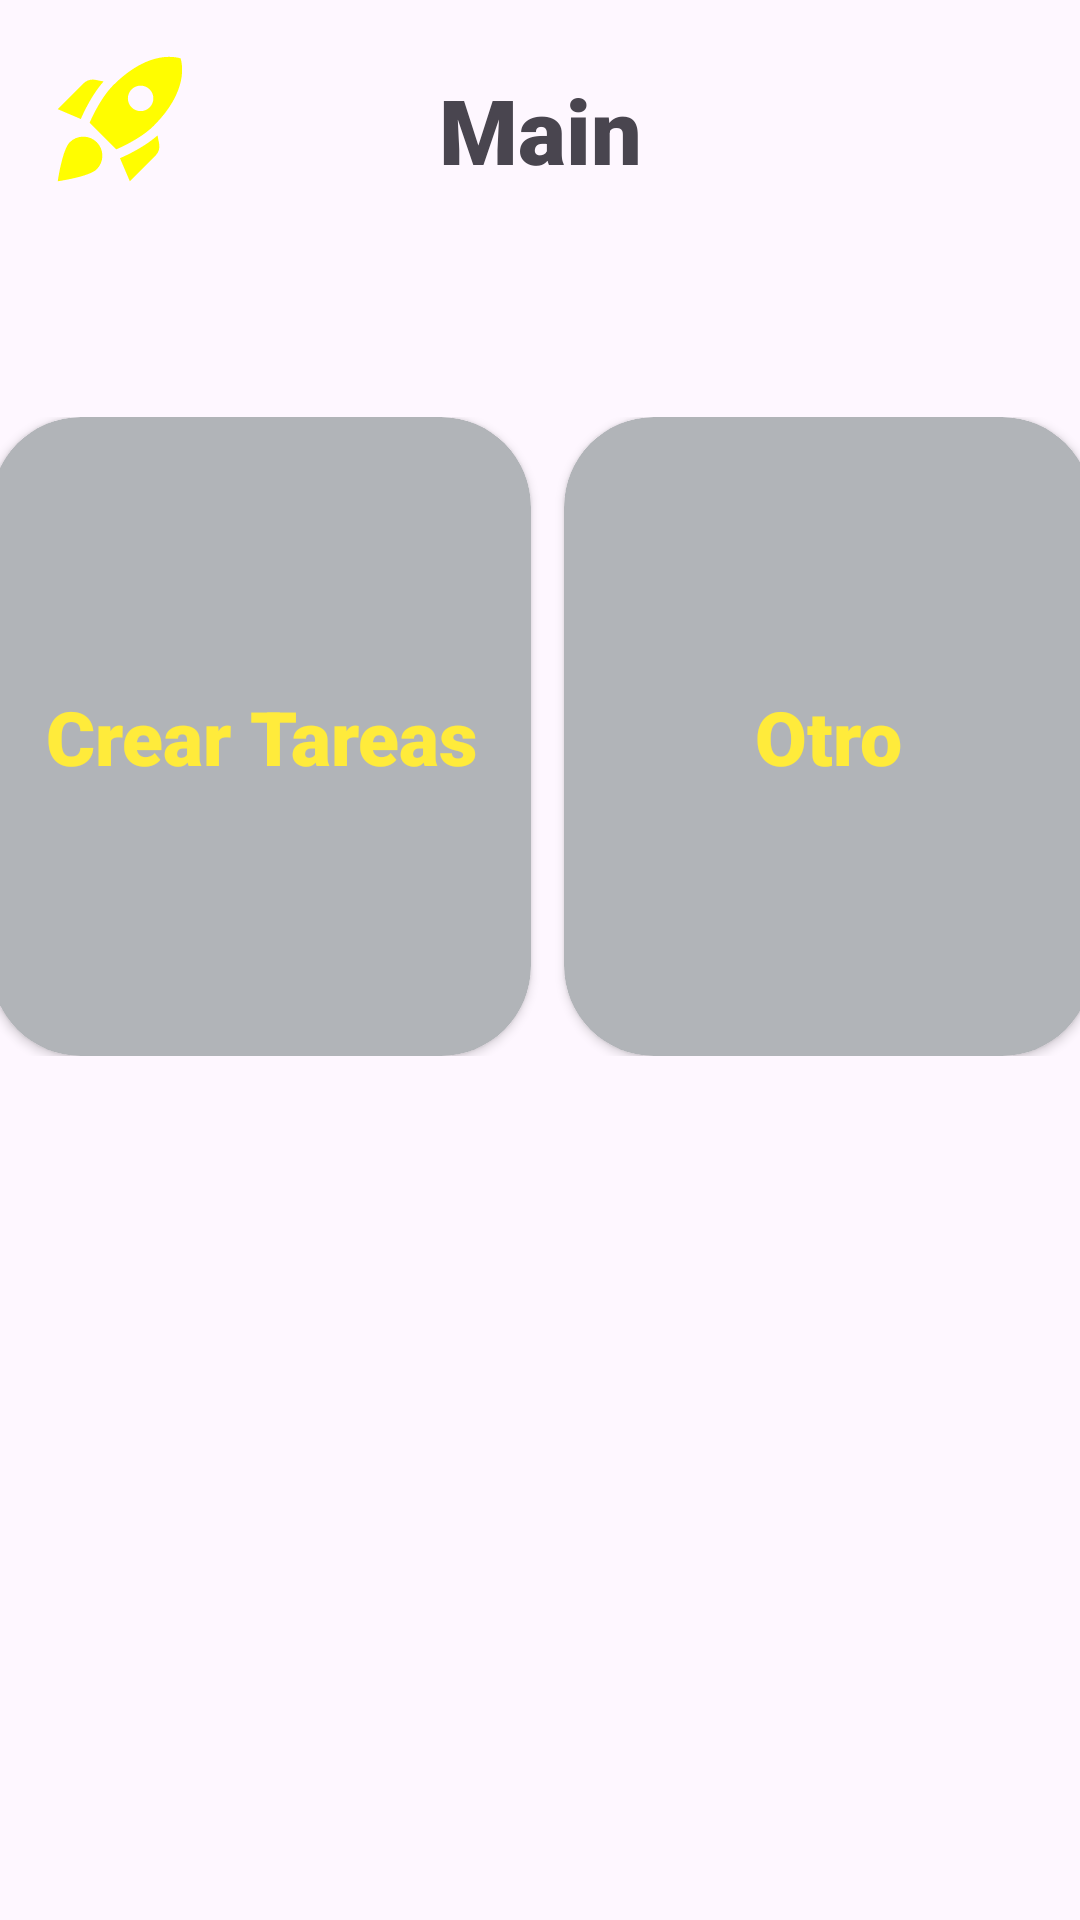

Where to tap for icons on this 1080 × 1920 app screen, as (x=x, y=y):
rocket launch sun: (x=119, y=119)
